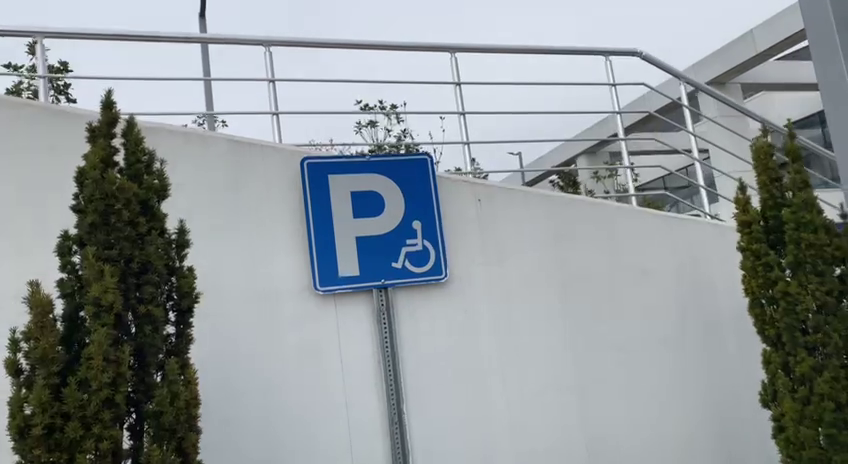parking: (298, 151, 451, 295)
